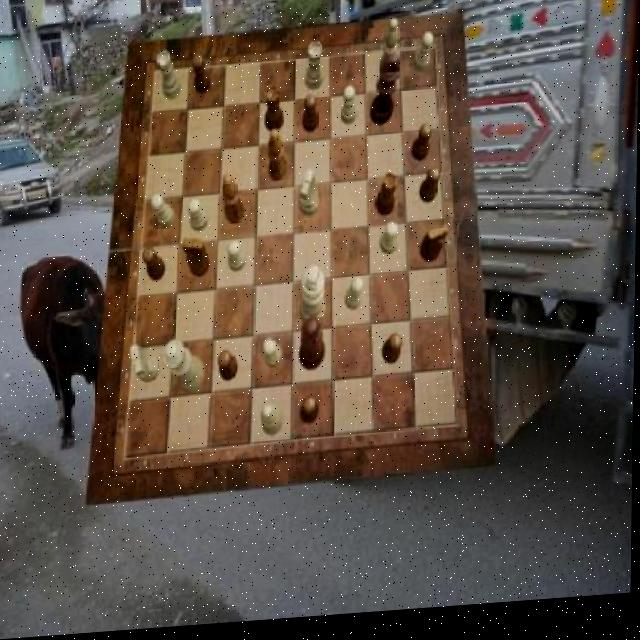bishop: (222, 176, 245, 228), (269, 134, 289, 187)
black-bishop: (371, 60, 402, 130)
black-king: (183, 240, 211, 282), (421, 232, 449, 270)
black-knight: (191, 57, 211, 98), (144, 249, 167, 284), (419, 174, 440, 211), (412, 130, 432, 167), (220, 353, 240, 385), (383, 339, 403, 371), (303, 100, 319, 139), (301, 401, 321, 430)
black-pawn: (300, 320, 327, 376)
black-queen: (375, 178, 398, 222), (265, 89, 284, 136)
black-rook: (379, 24, 399, 85), (262, 408, 286, 442)
white-bishop: (300, 270, 327, 333)
white-king: (131, 346, 161, 386), (300, 174, 321, 221)
white-knight: (151, 194, 176, 230), (414, 39, 435, 80), (188, 202, 209, 237), (341, 90, 358, 129), (347, 282, 365, 317), (229, 244, 248, 277), (381, 227, 399, 261), (263, 344, 283, 372)
white-pawn: (163, 340, 206, 397)
white-queen: (157, 52, 183, 103), (305, 47, 325, 96)
